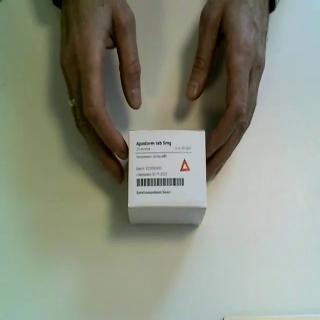apodorm5mg: (128, 128, 208, 229)
